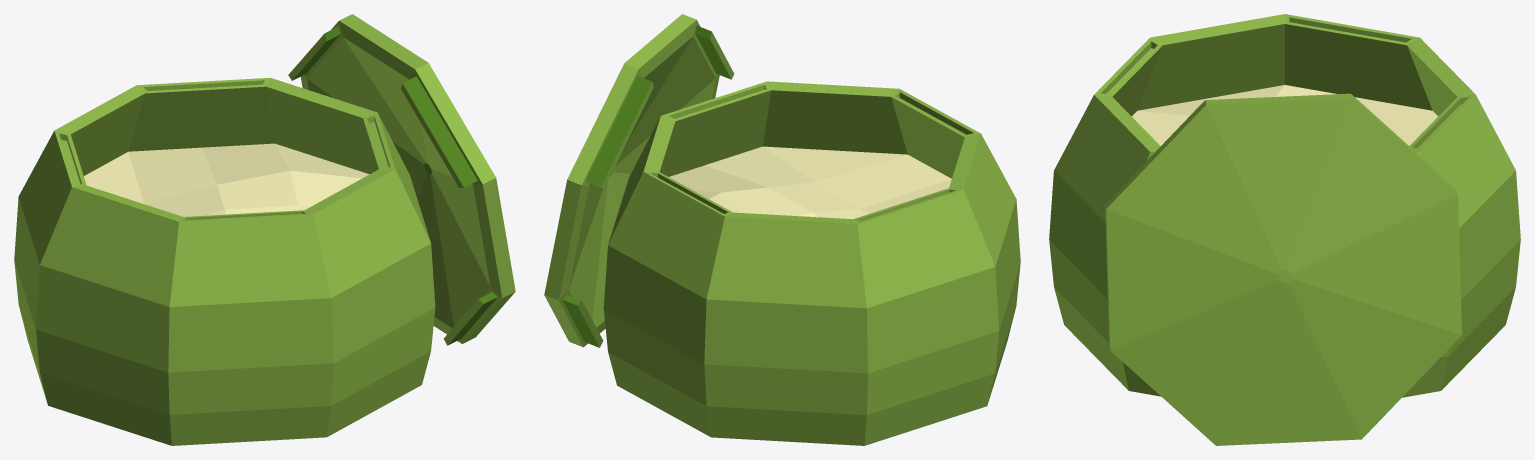
The model's file is bag_of_sand.glb.
3 renders of one model, left to right at view 1: azimuth 30°, elevation 25°; view 2: azimuth 150°, elevation 25°; view 3: azimuth 270°, elevation 25°, orthographic. The views are drawn at different scales.
Parts seen in each view (by area): view 1: BagOfSand; view 2: BagOfSand; view 3: BagOfSand.
Boxes of the visible parts, x1=… form: BagOfSand: x1=14, y1=14, x2=515, y2=445; BagOfSand: x1=544, y1=14, x2=1020, y2=445; BagOfSand: x1=1049, y1=14, x2=1520, y2=445.
Size of the model in its own units: 0.4875 by 0.338 by 0.4515.
1 material, 1 textured.
